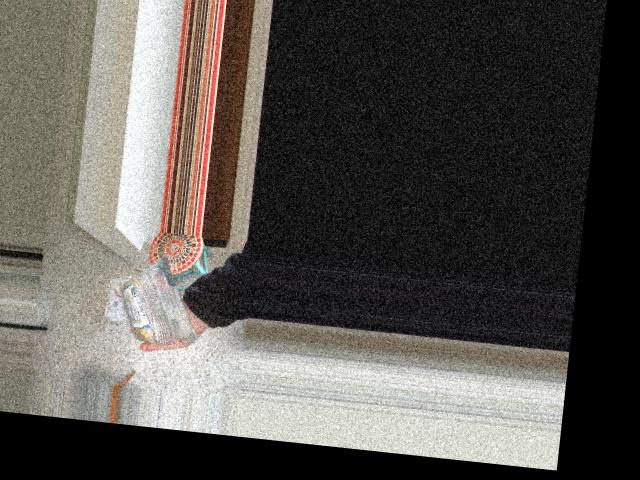cheese: (94, 280, 189, 329)
